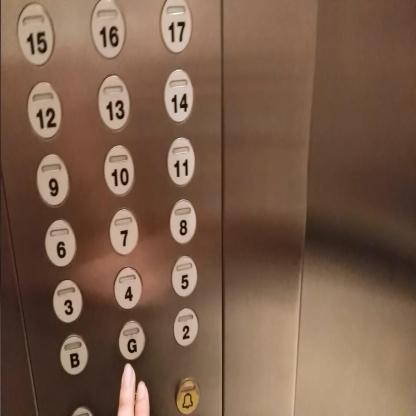10: (103, 142, 135, 198)
11: (166, 134, 195, 187)
12: (26, 78, 62, 140)
13: (96, 72, 131, 130)
14: (162, 66, 195, 122)
15: (15, 0, 55, 66)
16: (88, 0, 127, 58)
17: (158, 0, 194, 55)
2: (172, 304, 200, 349)
3: (52, 276, 83, 326)
4: (113, 266, 142, 312)
5: (170, 252, 199, 300)
6: (43, 217, 78, 268)
7: (108, 206, 140, 254)
8: (168, 195, 198, 246)
9: (35, 152, 70, 207)
B: (58, 331, 90, 376)
G: (117, 317, 147, 362)
alarm: (174, 374, 201, 415)
